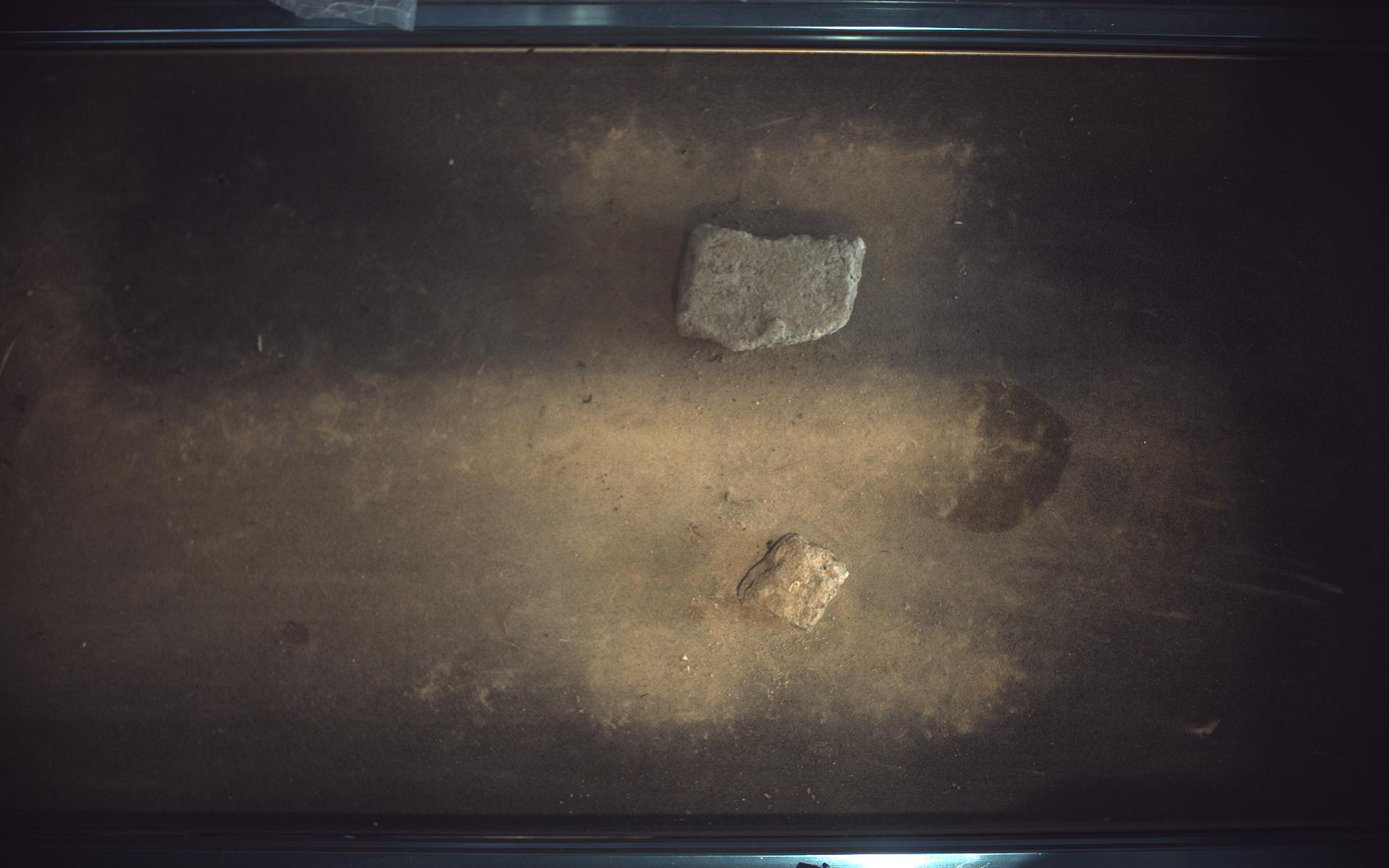stone: (677, 224, 867, 351), (739, 534, 851, 631)
